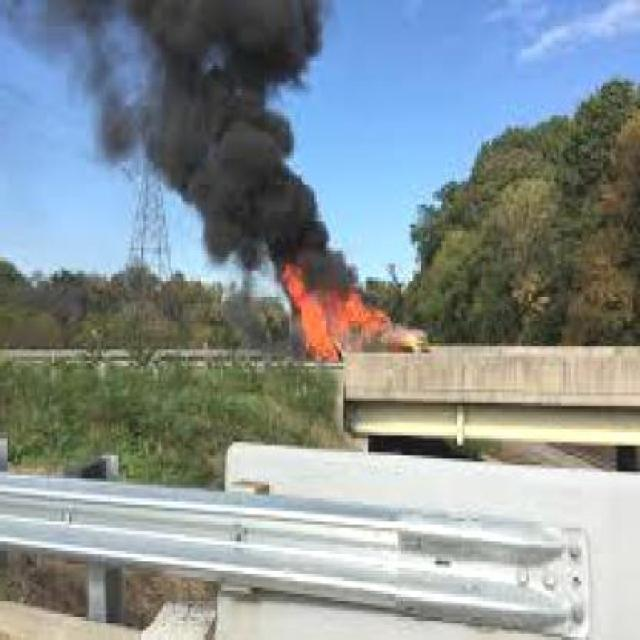Fire: (272, 257, 412, 363)
Smoke: (2, 0, 350, 249)
